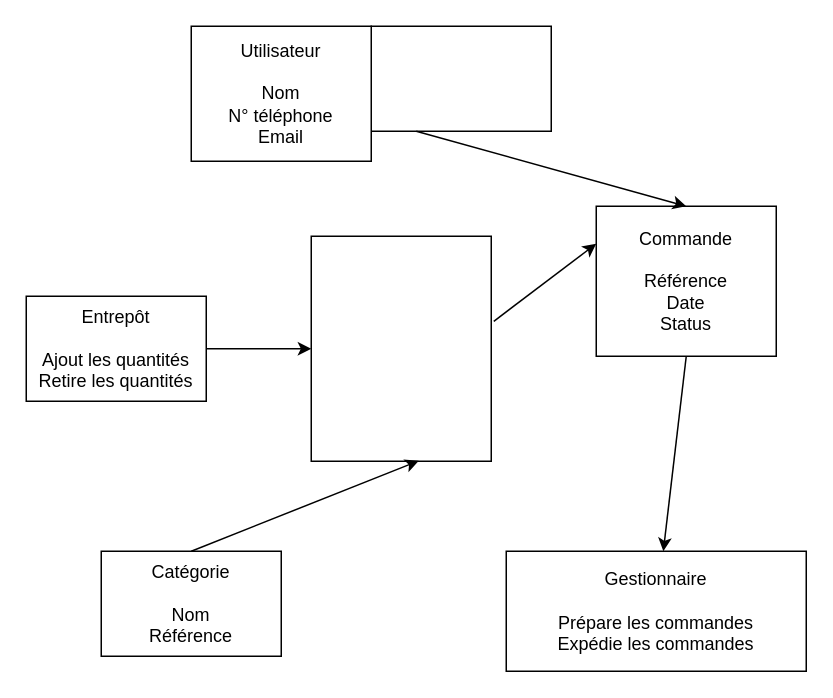
Some shapes in this 833 by 698 pixel diagram are drawn without their labels. The box of each missing label's shape, as (x1, y1, x2, y2) in pixels:
Article Réf unique Description Prix Quantité: (310, 235, 491, 461)
Client Commander 1 ou plusieurs articles: (370, 25, 551, 131)
